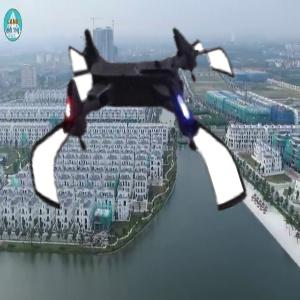drone: (14, 9, 252, 247)
